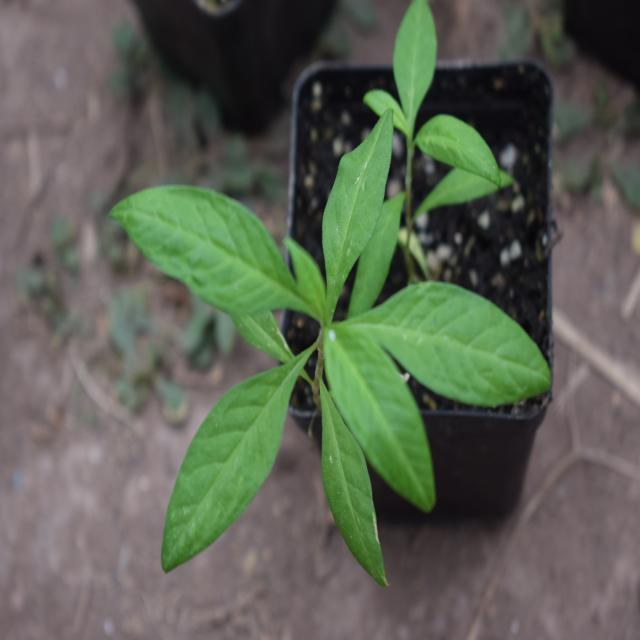white_smart_weed: (130, 146, 521, 576), (352, 11, 513, 243)
